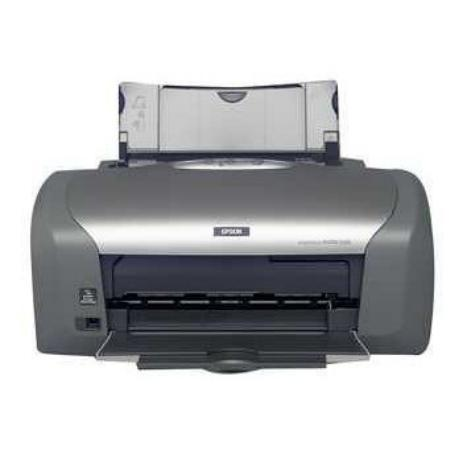printer: (29, 77, 432, 378)
